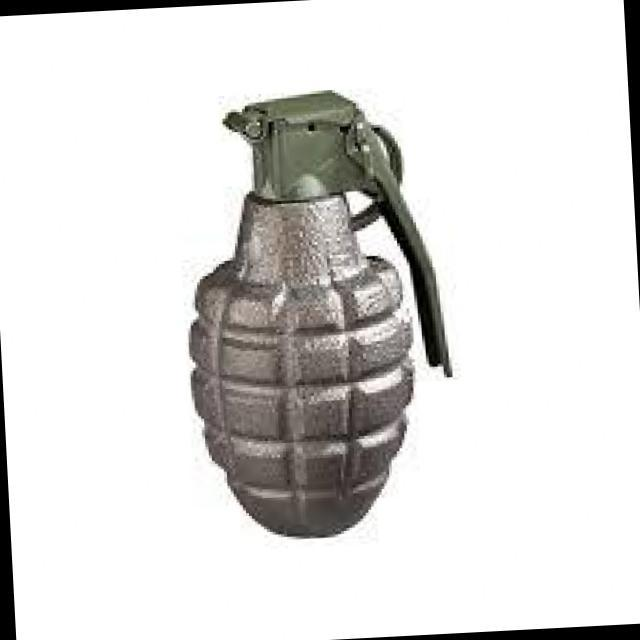grenade: (160, 81, 465, 548)
